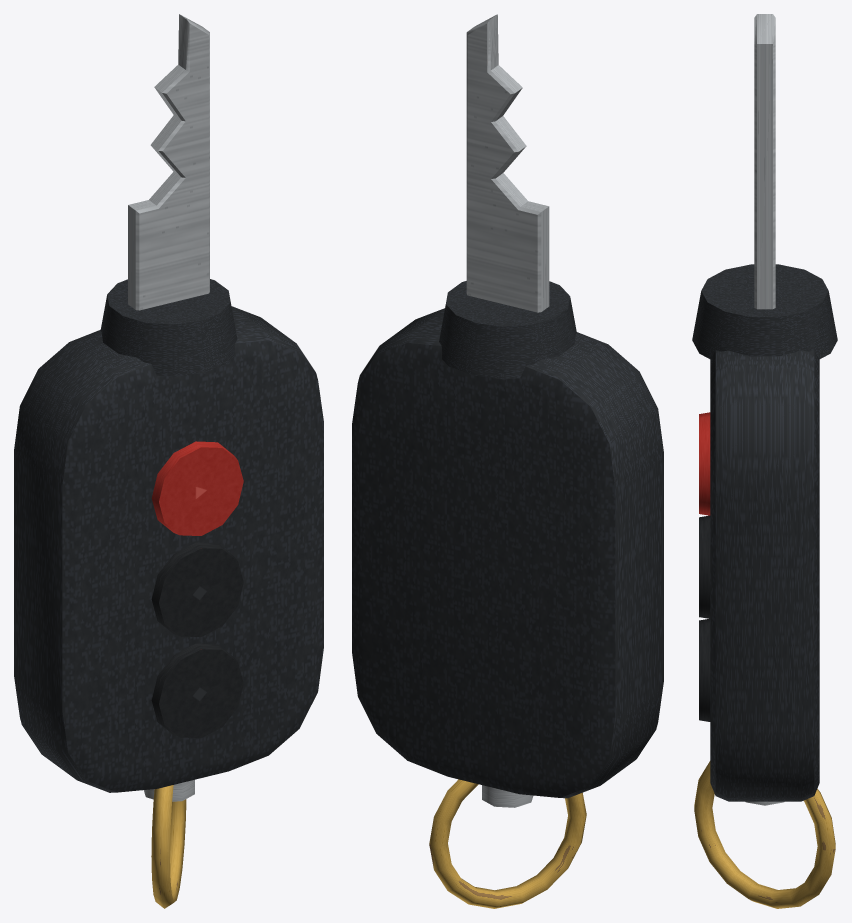
The model's file is carkey.obj.
3 views of the same model, side by side, from view 1: azimuth 30°, elevation 25°; view 2: azimuth 150°, elevation 25°; view 3: azimuth 270°, elevation 25° (orthographic). The views are drawn at different scales.
Visible parts, largest first — view 1: carkey_0_surface, carkey_1_surface; view 2: carkey_0_surface, carkey_1_surface; view 3: carkey_0_surface, carkey_1_surface.
Boxes of the visible parts, x1,y1,x2,y2 form: carkey_0_surface: (14,279,323,792); carkey_1_surface: (128,14,209,908); carkey_0_surface: (352,281,663,798); carkey_1_surface: (429,14,586,908); carkey_0_surface: (692,264,837,801); carkey_1_surface: (694,14,835,908).
Size of the model in its own units: 0.07 by 0.2177 by 0.032.
2 materials, 2 textured.
